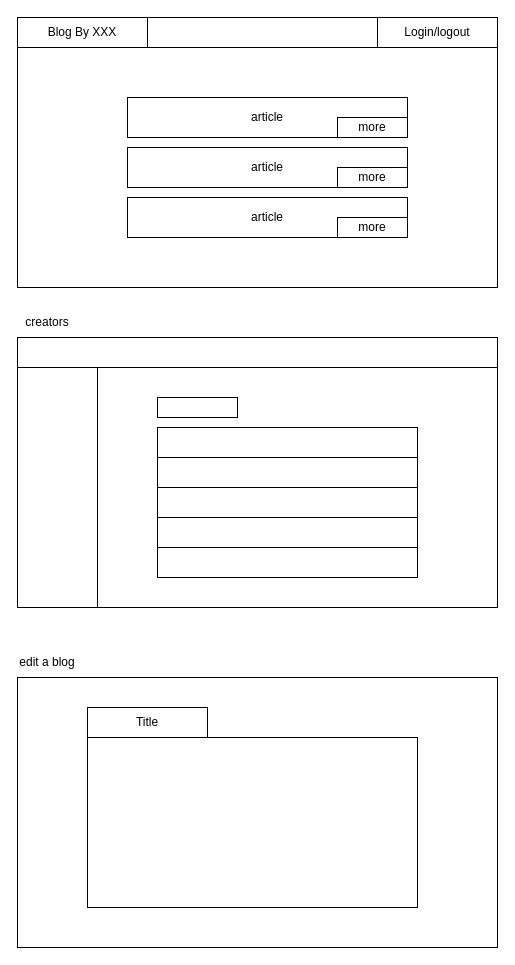
The diagram is 515 pixels wide and 965 high, and some of its shapes have lost their labels. Here are the shapes that lost their labels. From the top down, the box of each, then its label:
(156, 396, 238, 418): Create a Blog
(16, 366, 98, 608): Sidebar
(86, 736, 418, 908): markdown edit area
